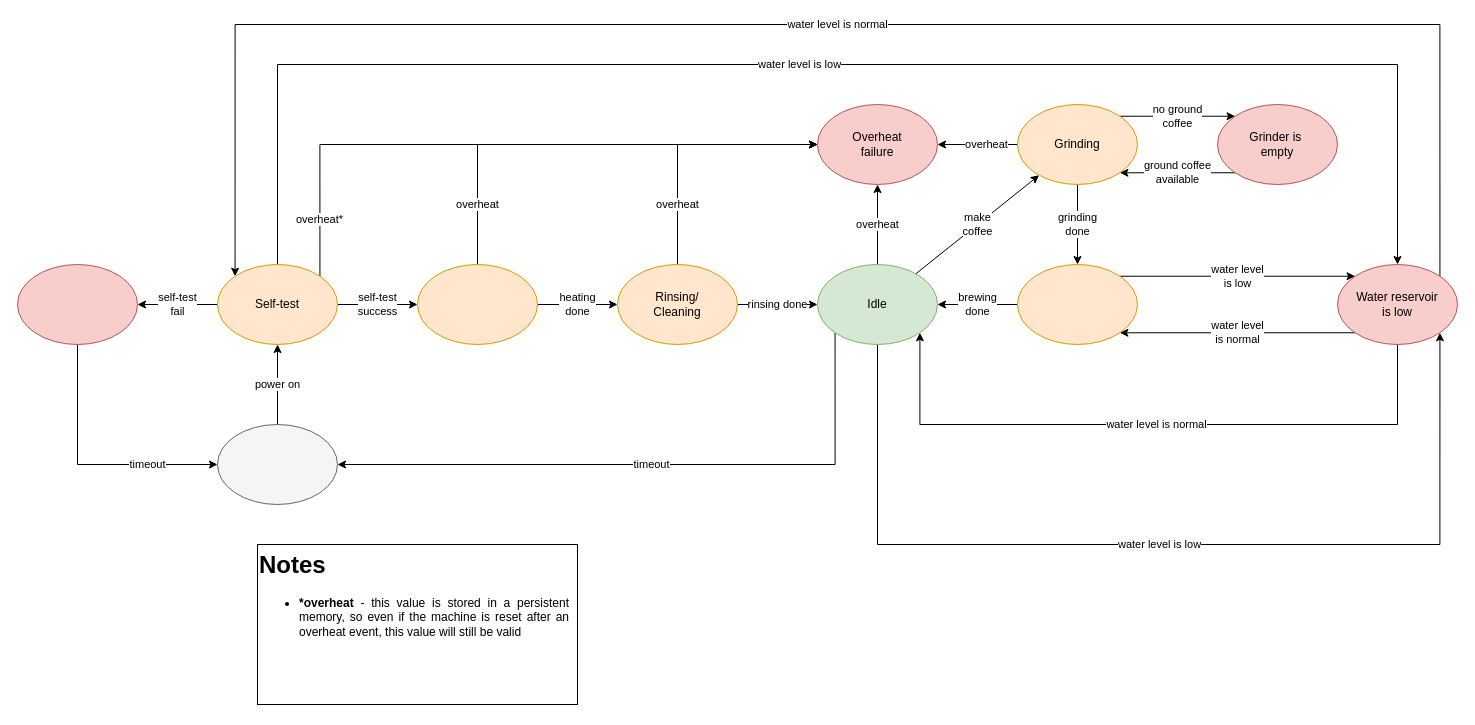
The diagram is 1475 pixels wide and 725 high, and some of its shapes have lost their labels. Here are the shapes that lost their labels. From the top down, the centre of each, then its label:
At point 77,304: "Failure".
At point 477,304: "Heating".
At point 1077,304: "Brewing/ Dispensing".
At point 277,464: "Off".
